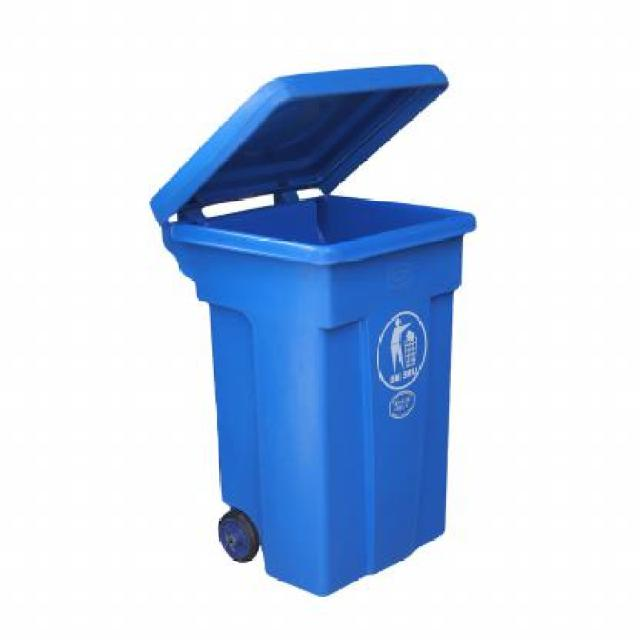garbage container: (125, 48, 504, 614)
